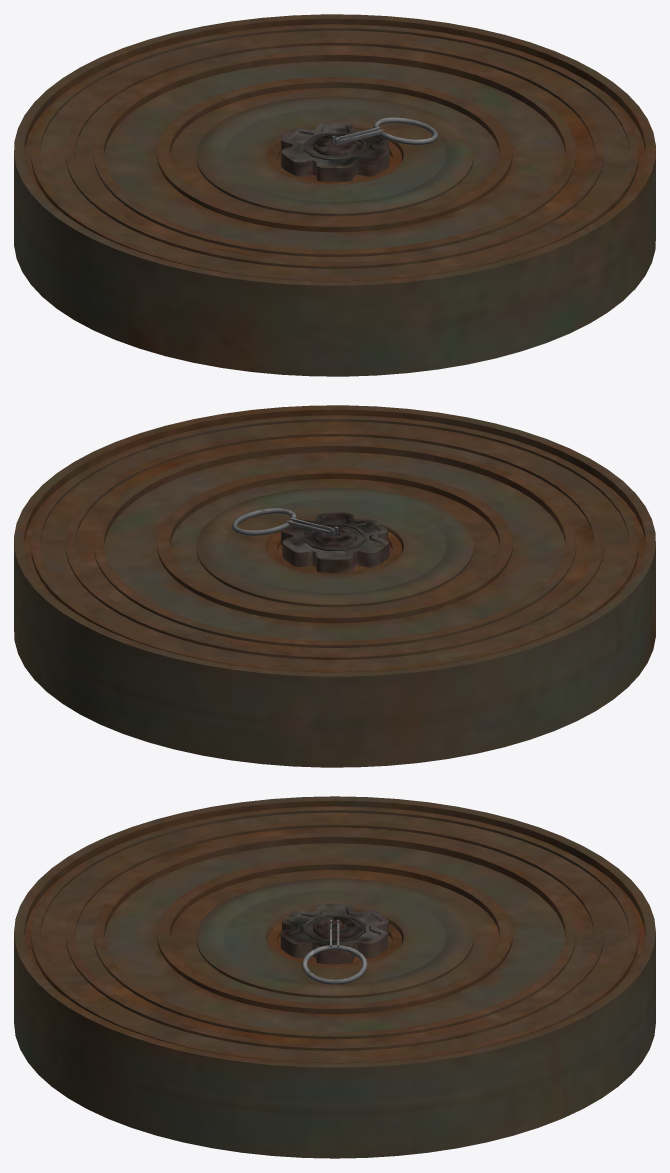
Rendered from SM_QuarantineMine.glb.
3 renders of one model, top to bottom at view 1: azimuth 30°, elevation 25°; view 2: azimuth 150°, elevation 25°; view 3: azimuth 270°, elevation 25°, orthographic.
Parts seen in each view (by area): view 1: SM_QuarantineMine; view 2: SM_QuarantineMine; view 3: SM_QuarantineMine.
Part boxes in pixels (x1=…): SM_QuarantineMine: x1=14, y1=14, x2=655, y2=376; SM_QuarantineMine: x1=14, y1=405, x2=655, y2=767; SM_QuarantineMine: x1=14, y1=796, x2=655, y2=1158.
Bounding box in the file's own units: 0.65 × 0.1154 × 0.65.
3 materials, 3 textured.
